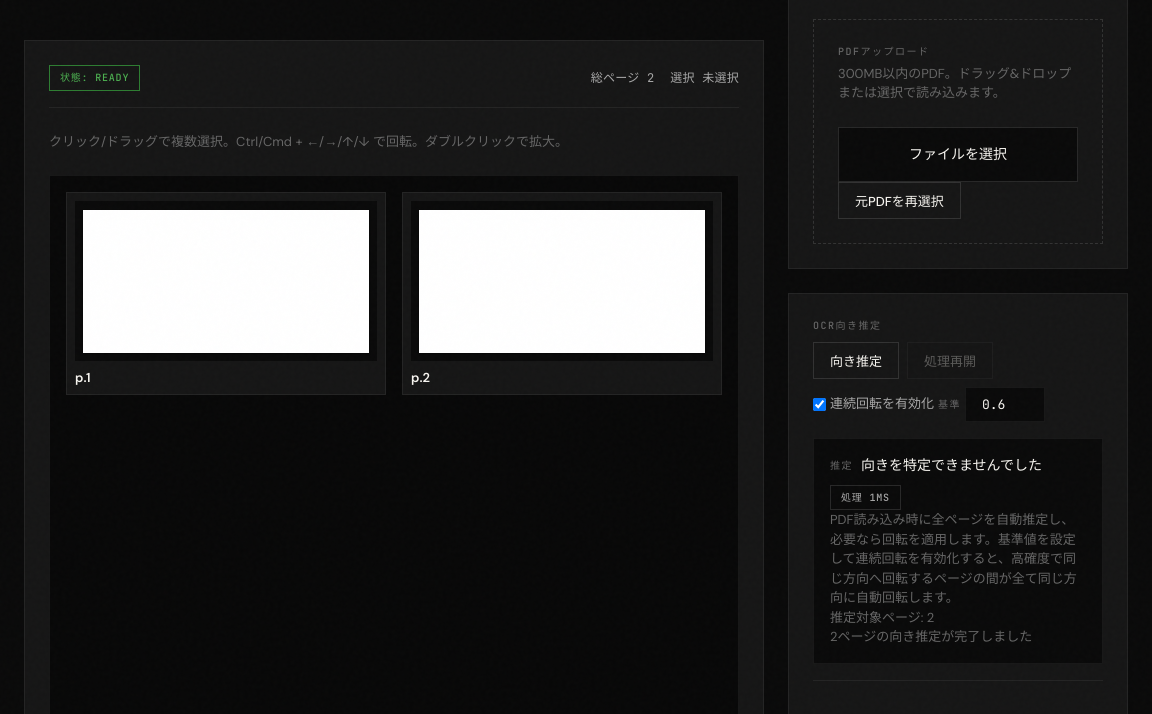
Test case: App › 処理中止すると再開ボタンが有効になる
(page scrolled)
Click the button "向き推定": (856, 360) [813,342,899,379]
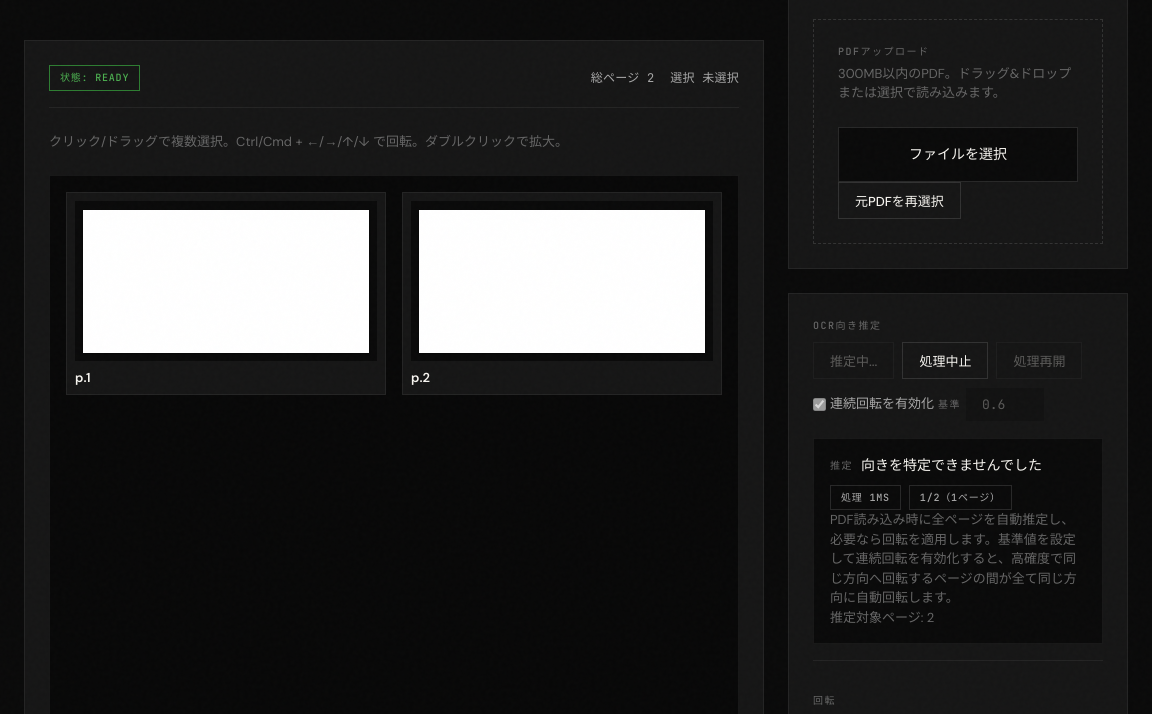
Now the button "処理中止" is shown
Click the button "処理中止": (945, 360) [902,342,988,379]
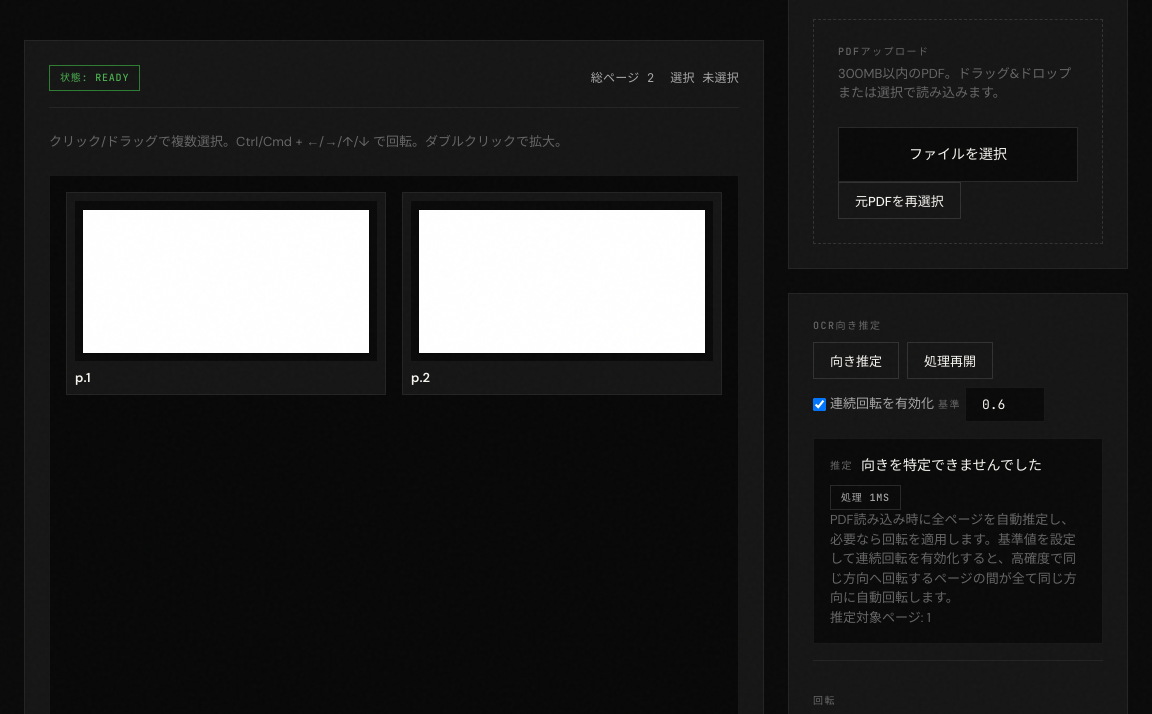
Now the button "処理再開" is enabled, box [907,342,993,379]
